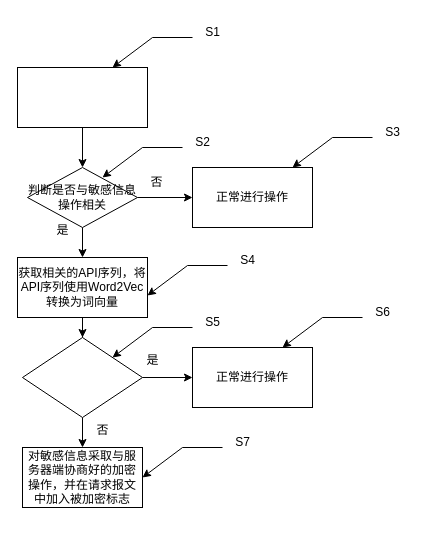
This 430x535 diagram has some shape labels left out. The box of each missing label's shape, as (x1, y1, x2, y2) in pixels:
判断敏感信息是否进行了加密: (22, 336, 142, 418)
获取APP运行时UI界面: (16, 66, 148, 128)
